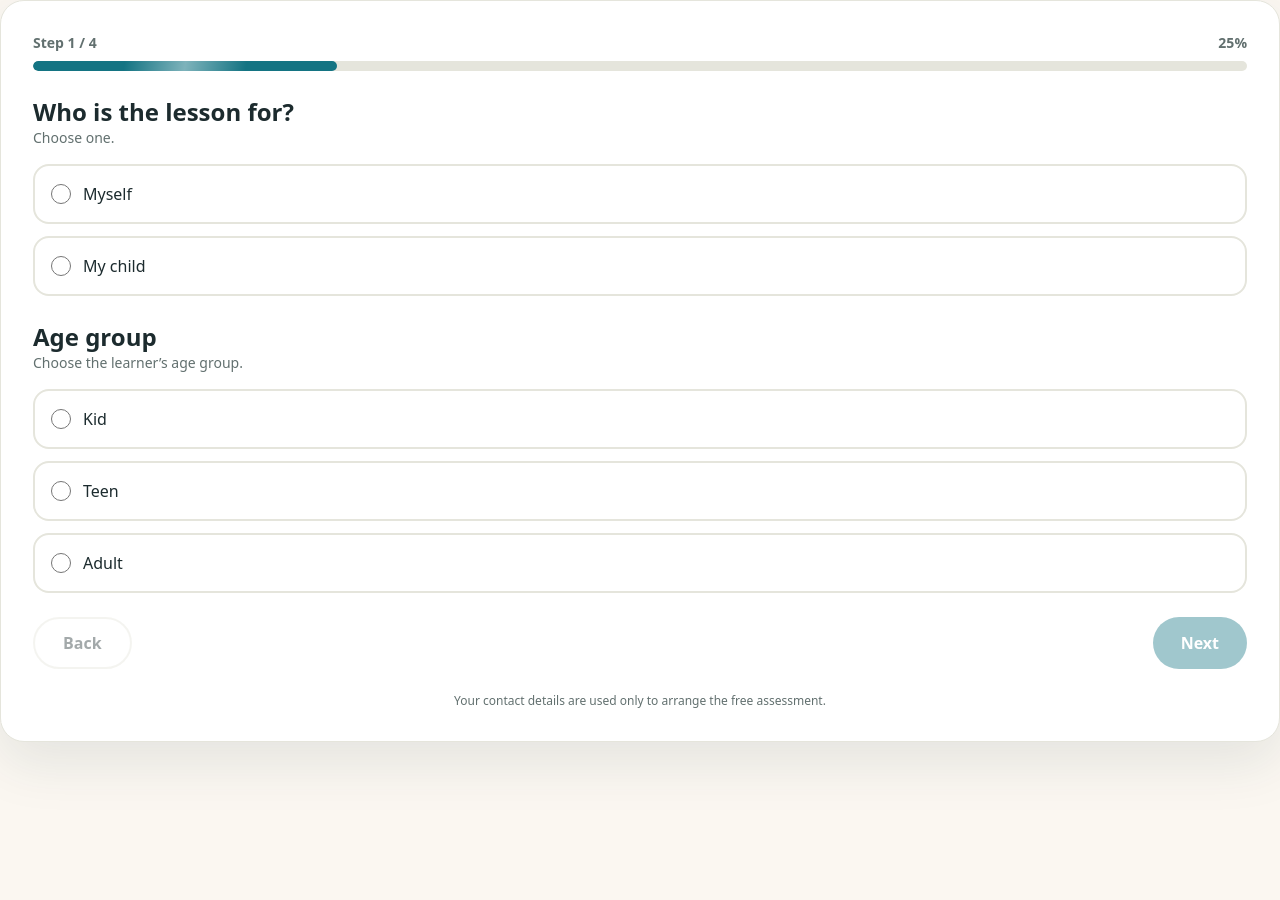
Test case: AssessmentForm › keeps previously chosen values when navigating back across screens
Click the radio button labelled "Teen".
click(61, 491)  # box left=51, top=481, right=71, bottom=501
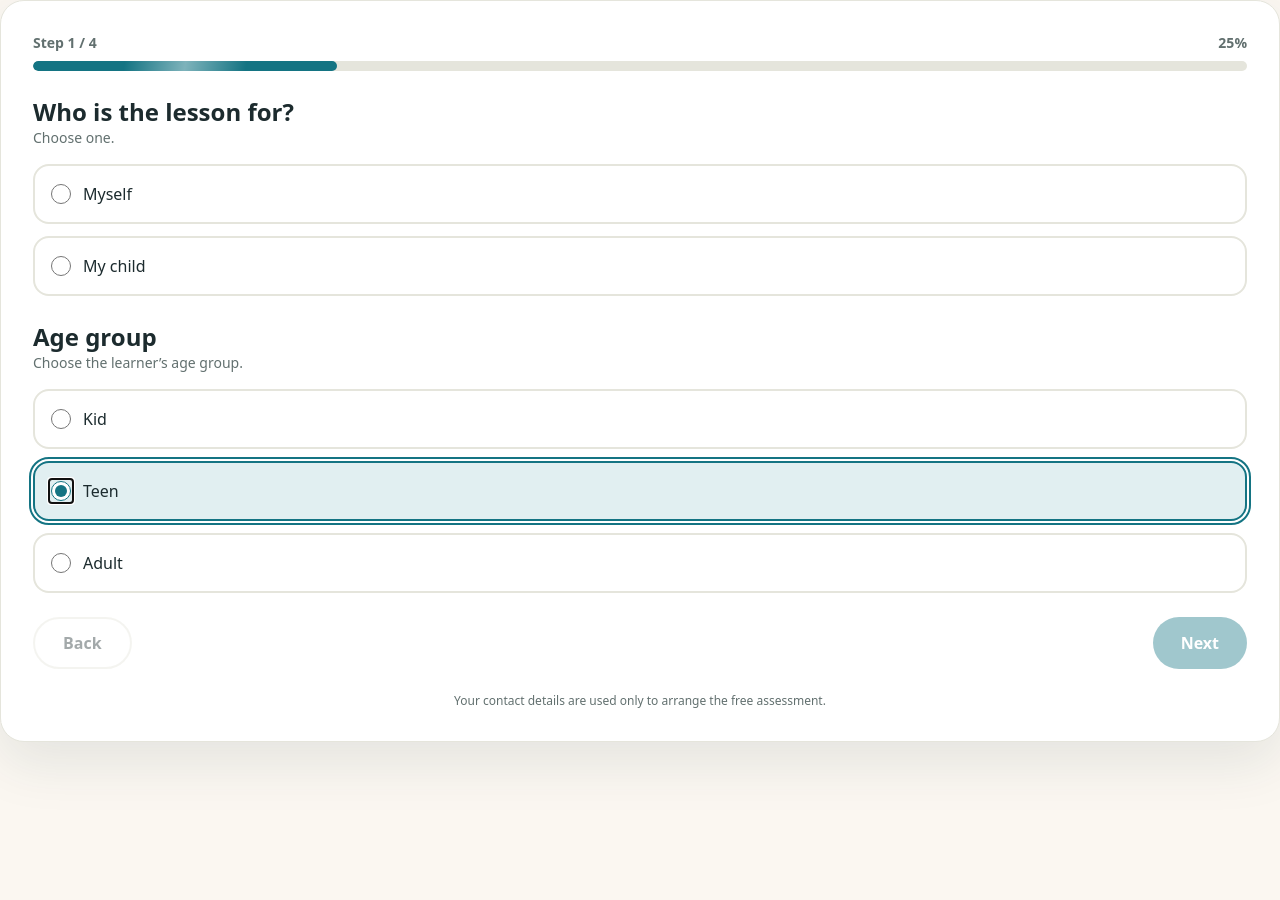
Click the radio button labelled "Myself".
click(61, 194)  # box left=51, top=184, right=71, bottom=204
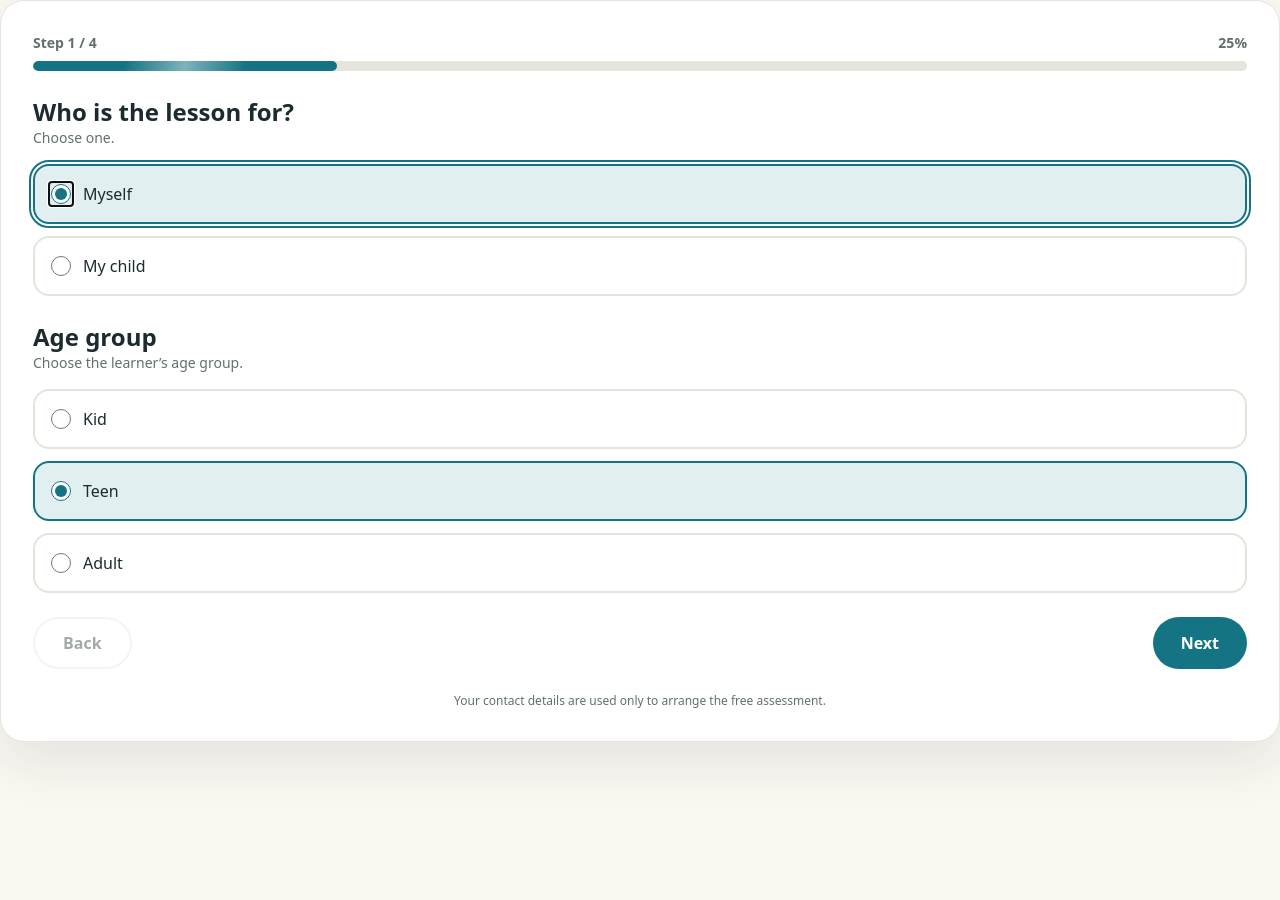
Click the button "Next".
click(1200, 643)  # box left=1153, top=617, right=1247, bottom=669
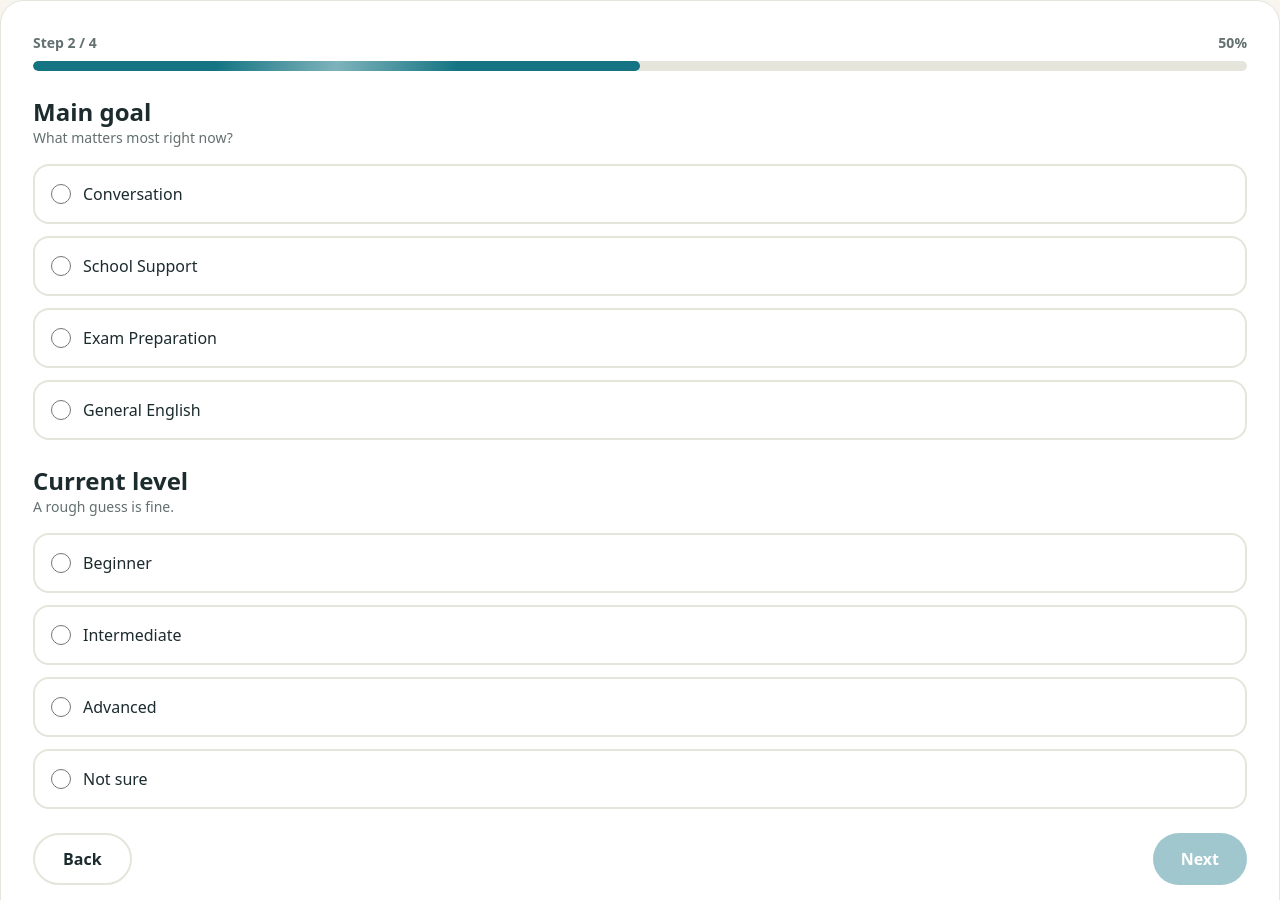
Click the button "Back".
click(82, 859)  # box left=33, top=833, right=132, bottom=885
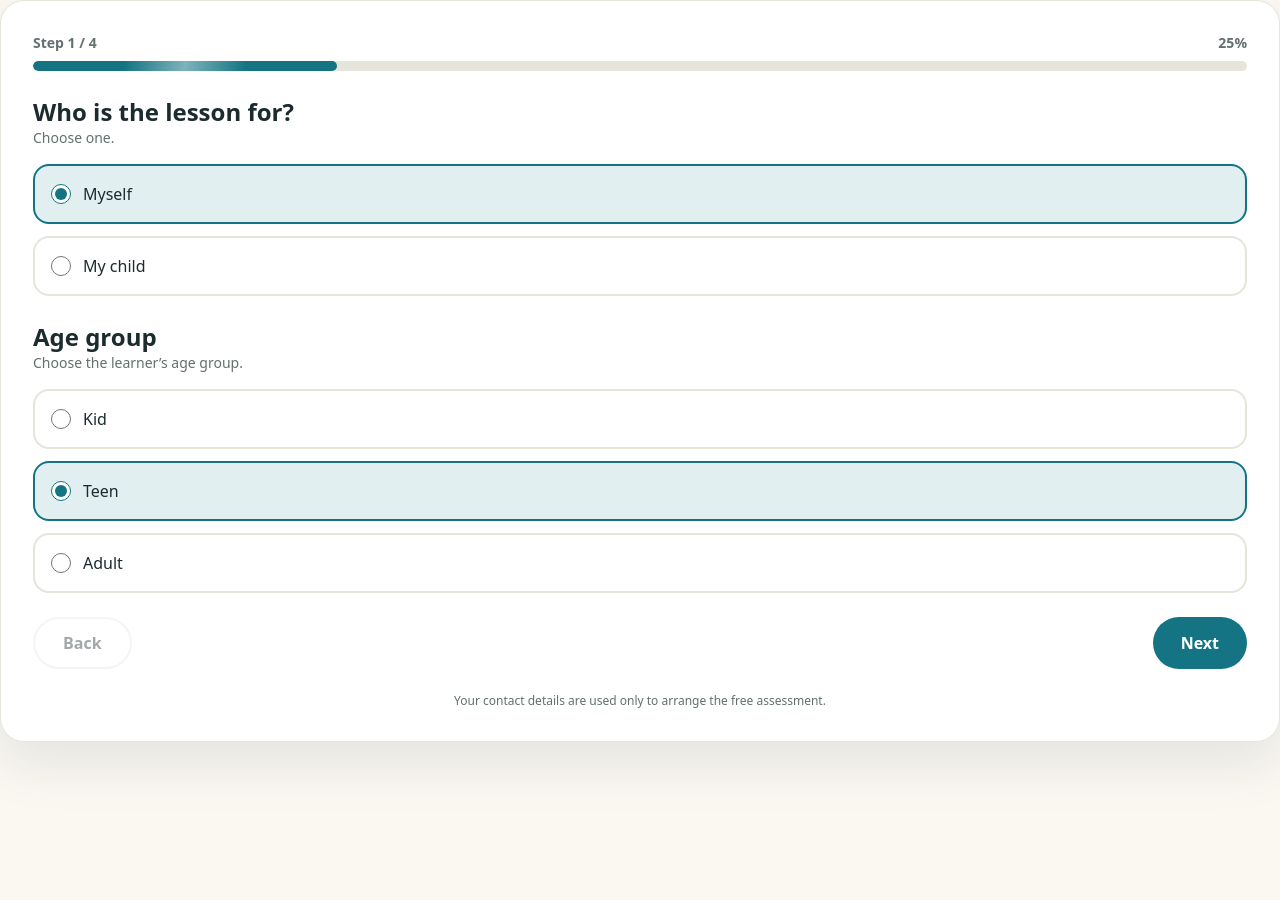
Check: the radio button labelled "Teen" is checked, box left=51, top=481, right=71, bottom=501
Check: the radio button labelled "Myself" is checked, box left=51, top=184, right=71, bottom=204
